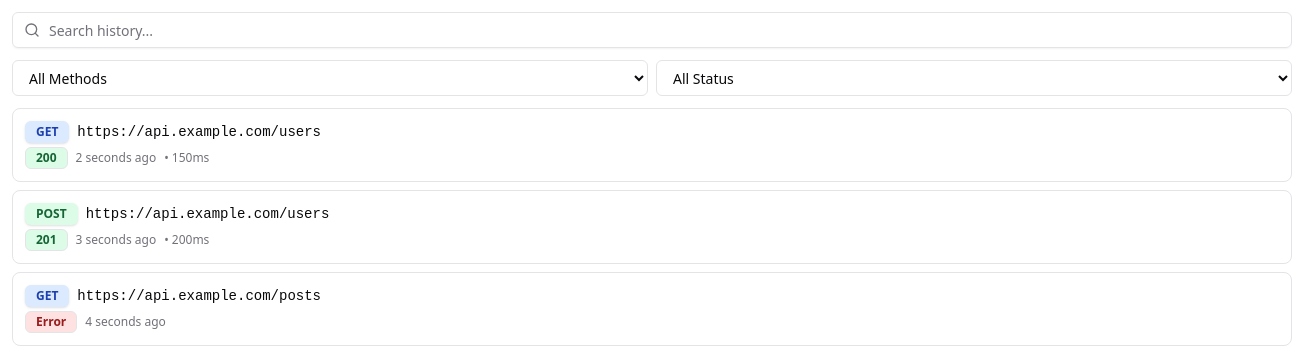
HistoryList › should filter items by status (success/error)
This screenshot has width=1304, height=363.
Select "Error" in the dropdown named "status" at (974, 78), box [656,60,1292,96]
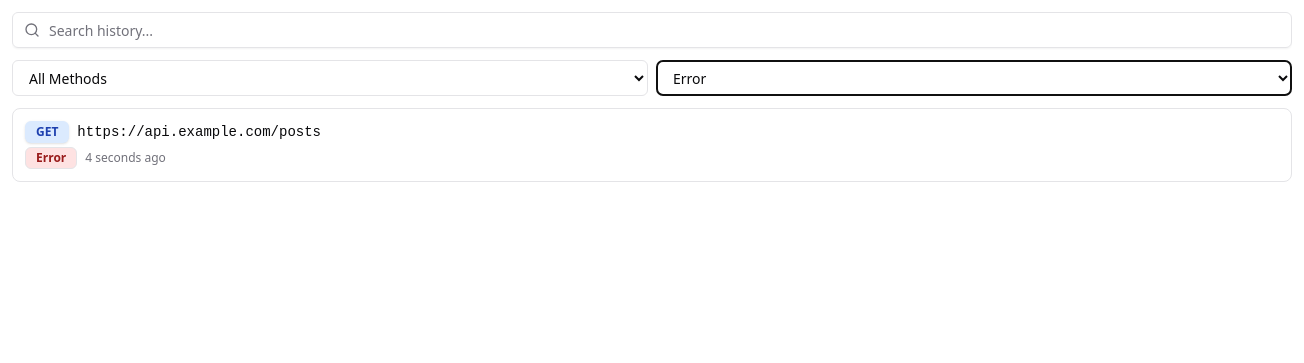
Check: the button "200" is gone
